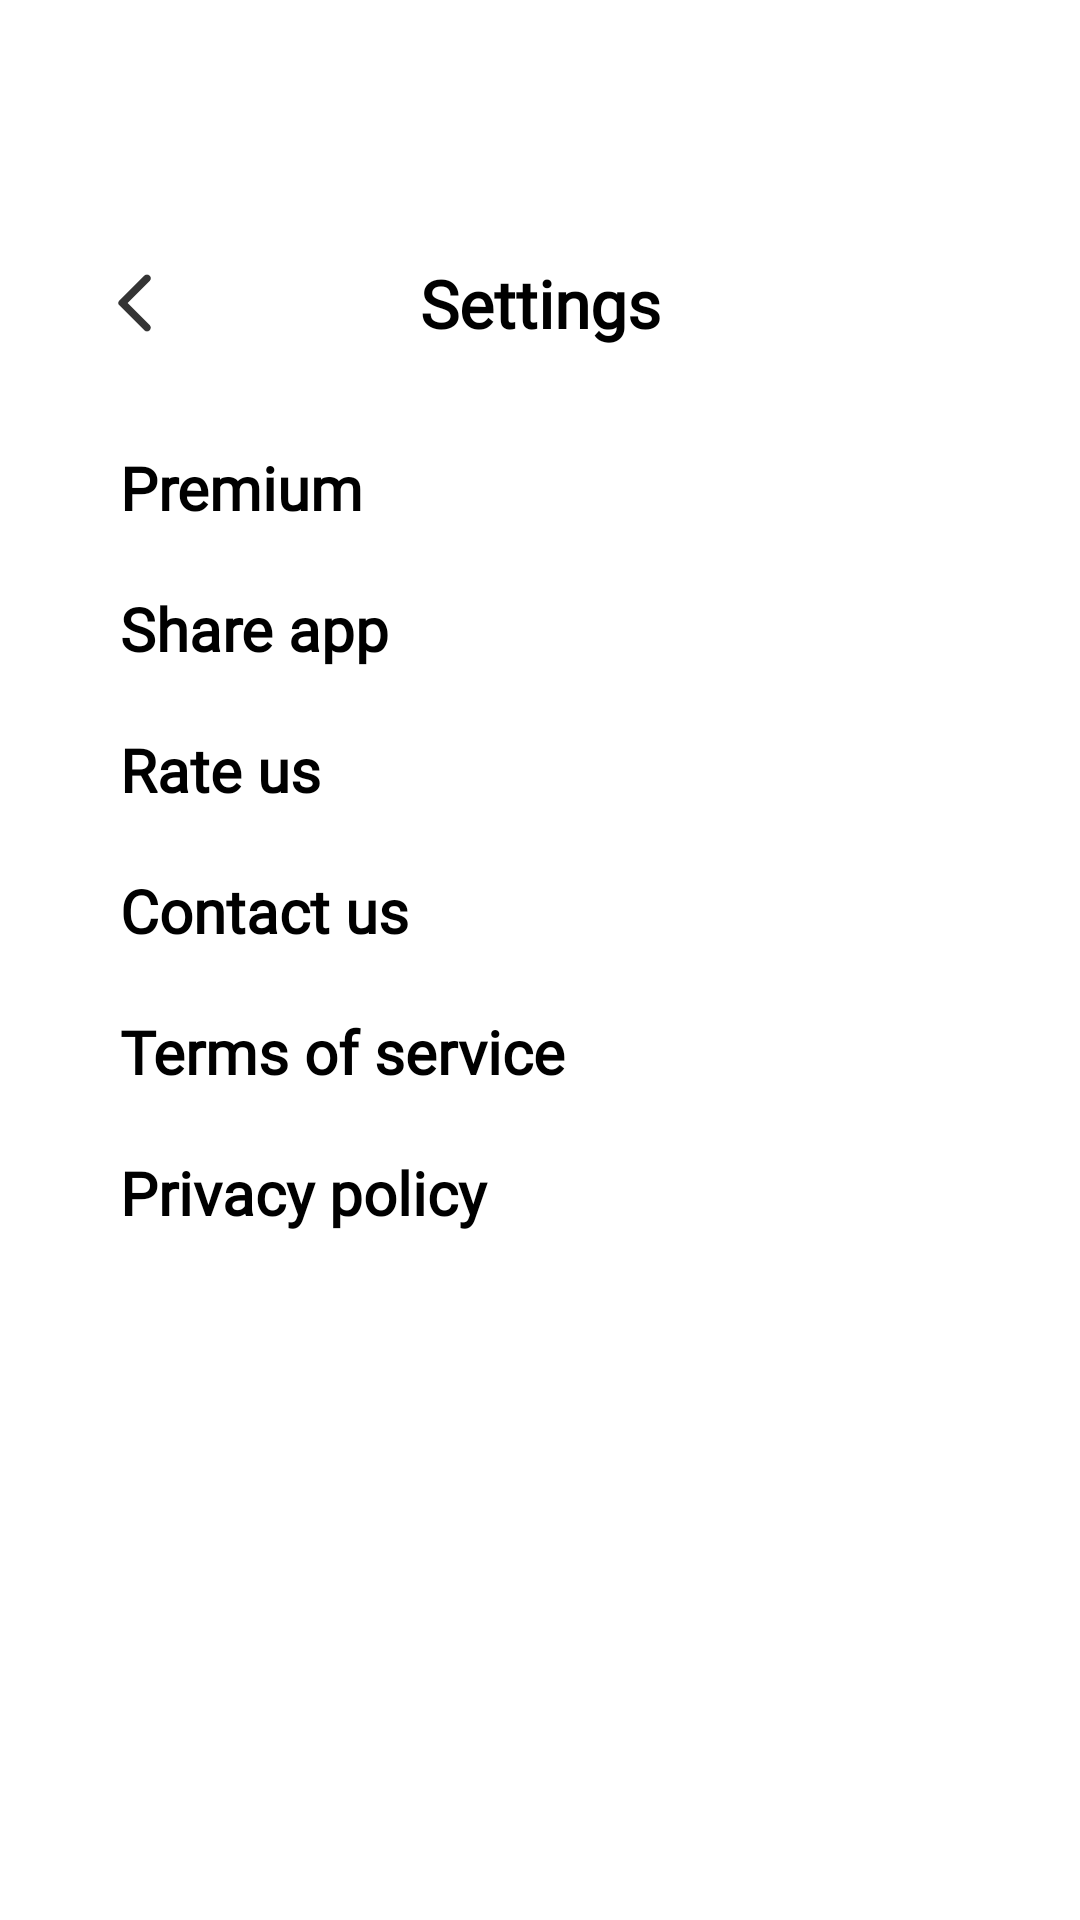

Locate icon controls on the screen. Image size 1080w x 1920h, boxes as (x1, y1, x2, y2).
back: (118, 274, 151, 332)
